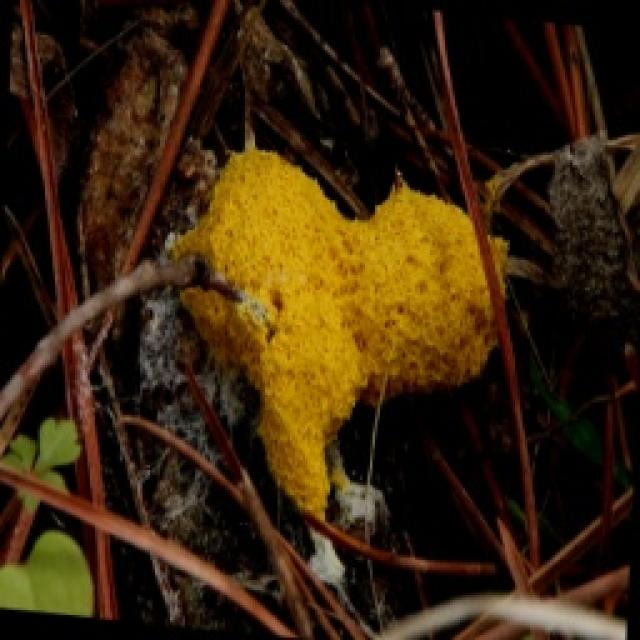Dog_vomit_slime_mold: (143, 132, 562, 531)
